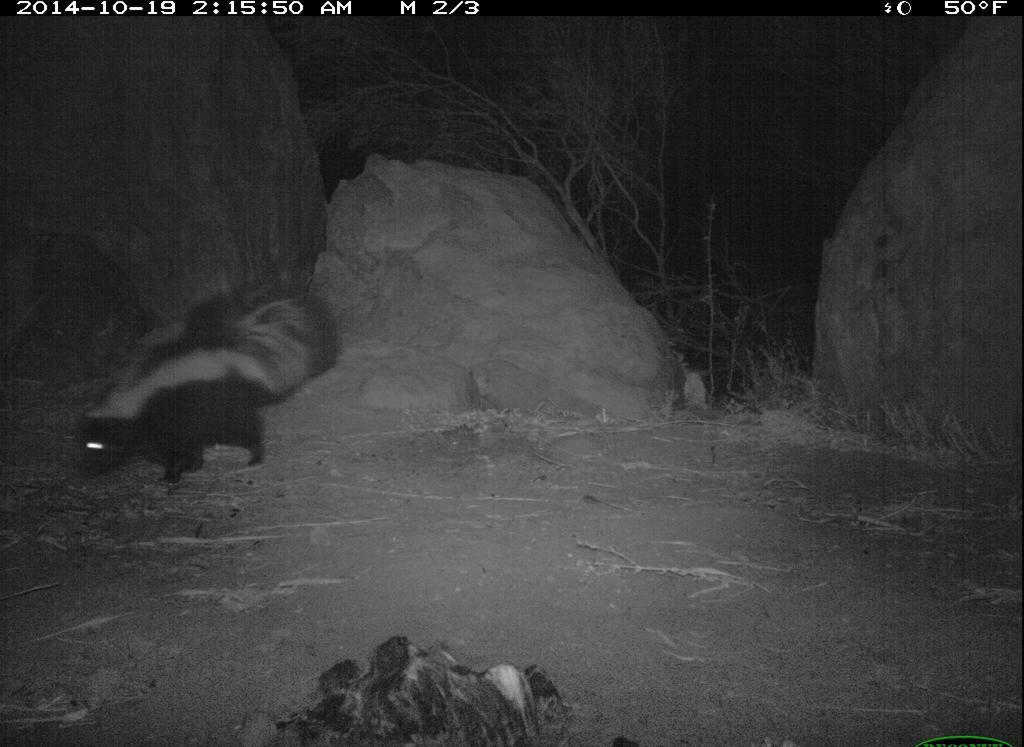skunk: (62, 274, 341, 483)
